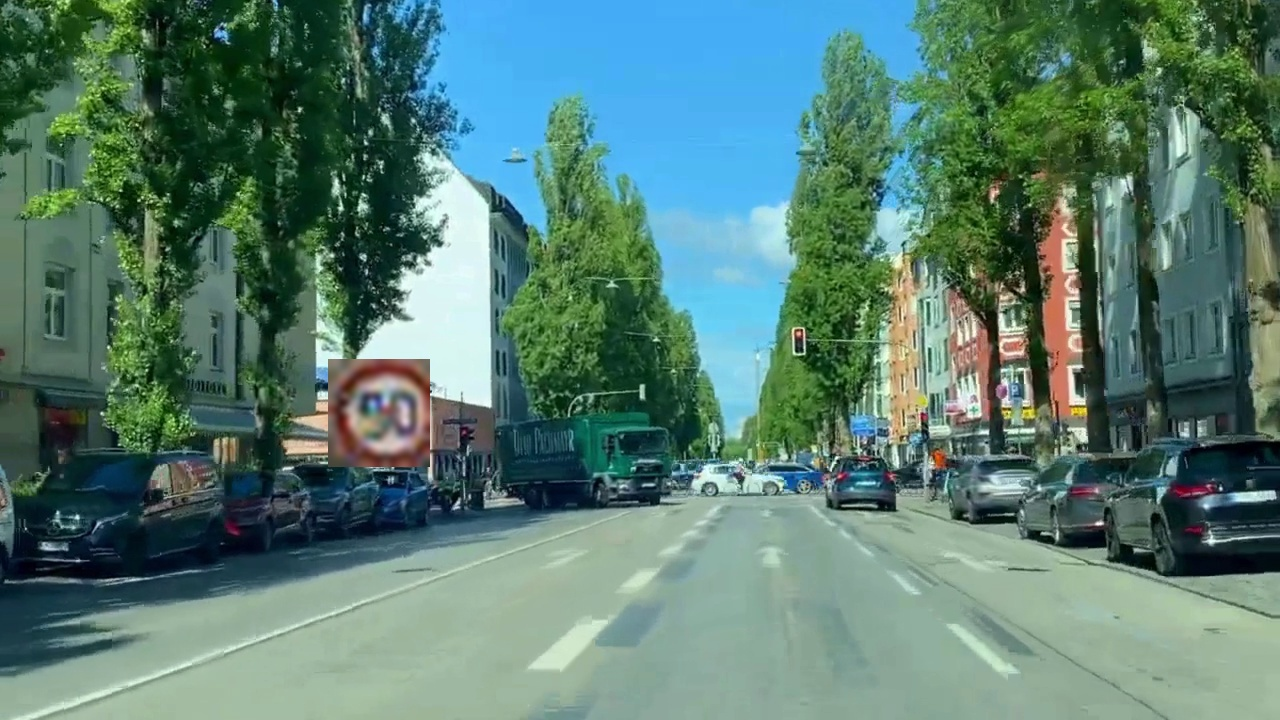Speed 50: (328, 359, 430, 467)
